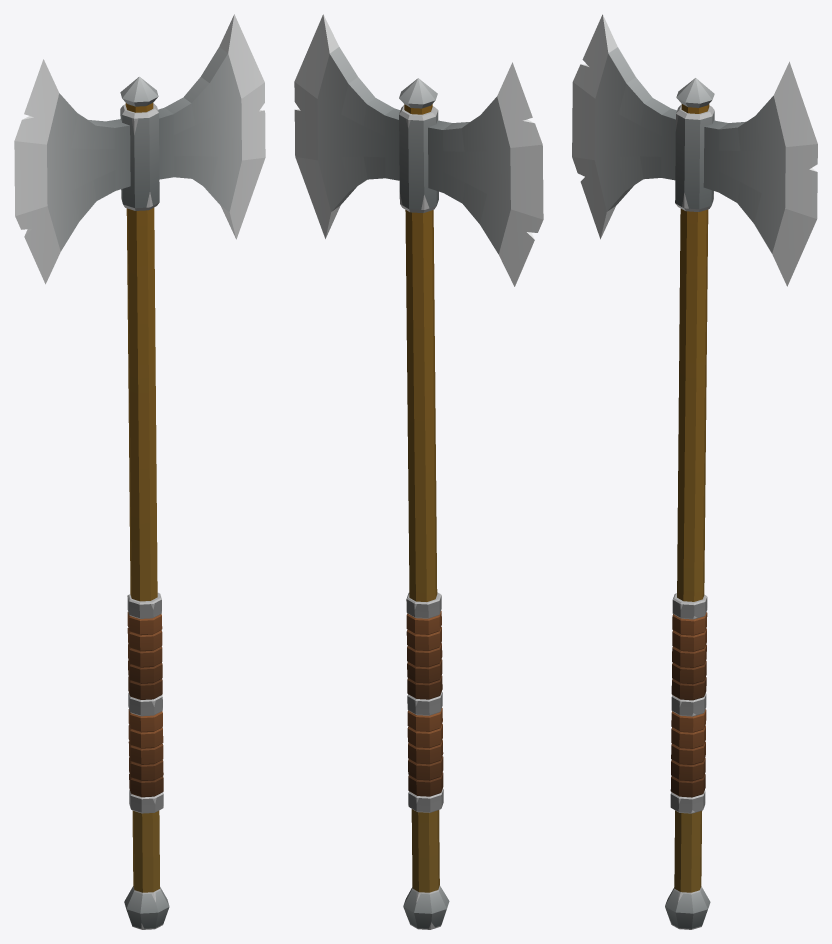
The model's file is axe_4.glb.
The picture shows the model from 3 angles, left to right: view 1: azimuth 30°, elevation 25°; view 2: azimuth 150°, elevation 25°; view 3: azimuth 330°, elevation 25°; orthographic projection.
Visible parts, largest first — view 1: axe_4; view 2: axe_4; view 3: axe_4.
Boxes of the visible parts, x1,y1,x2,y2 form: axe_4: [14, 14, 265, 929]; axe_4: [294, 14, 543, 929]; axe_4: [572, 14, 817, 929].
Bounding box in the file's own units: 0.5348 × 1.82 × 0.1096.
1 material, 1 textured.
